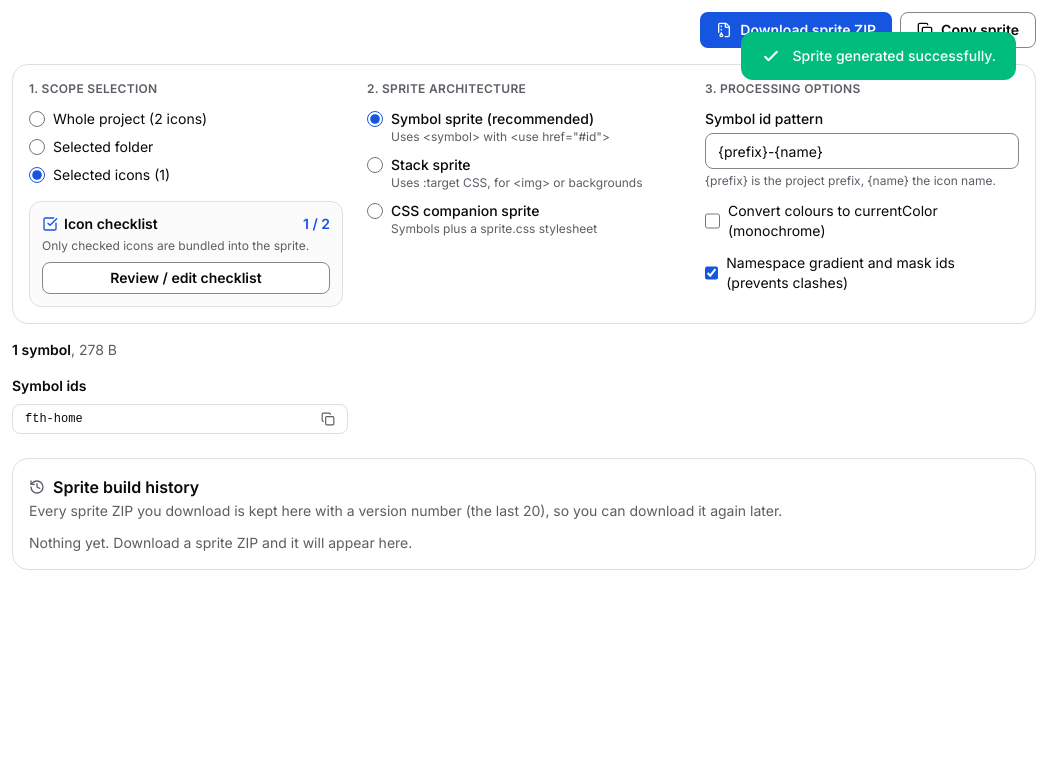
it: chosen icons › goes back to everything when All icons is chosen again
Check: the text "1 symbol" is shown, box [12,341,71,358]
Click the radio button labelled "Whole project (2 icons)".
click(37, 119)  # box [29,111,45,127]
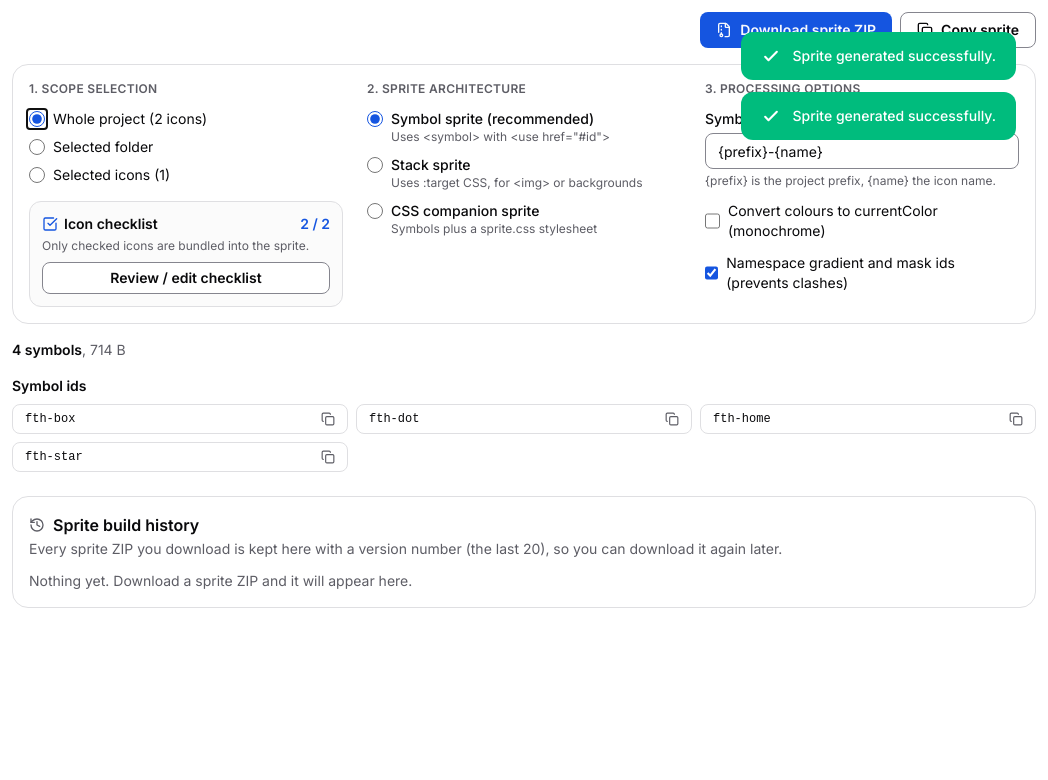
Check: the text "4 symbols" is shown, box [12,341,82,358]
